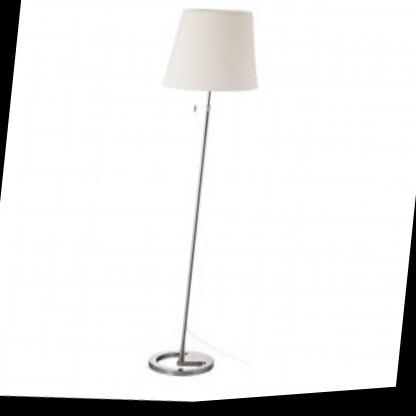Lamp: (114, 0, 266, 392)
